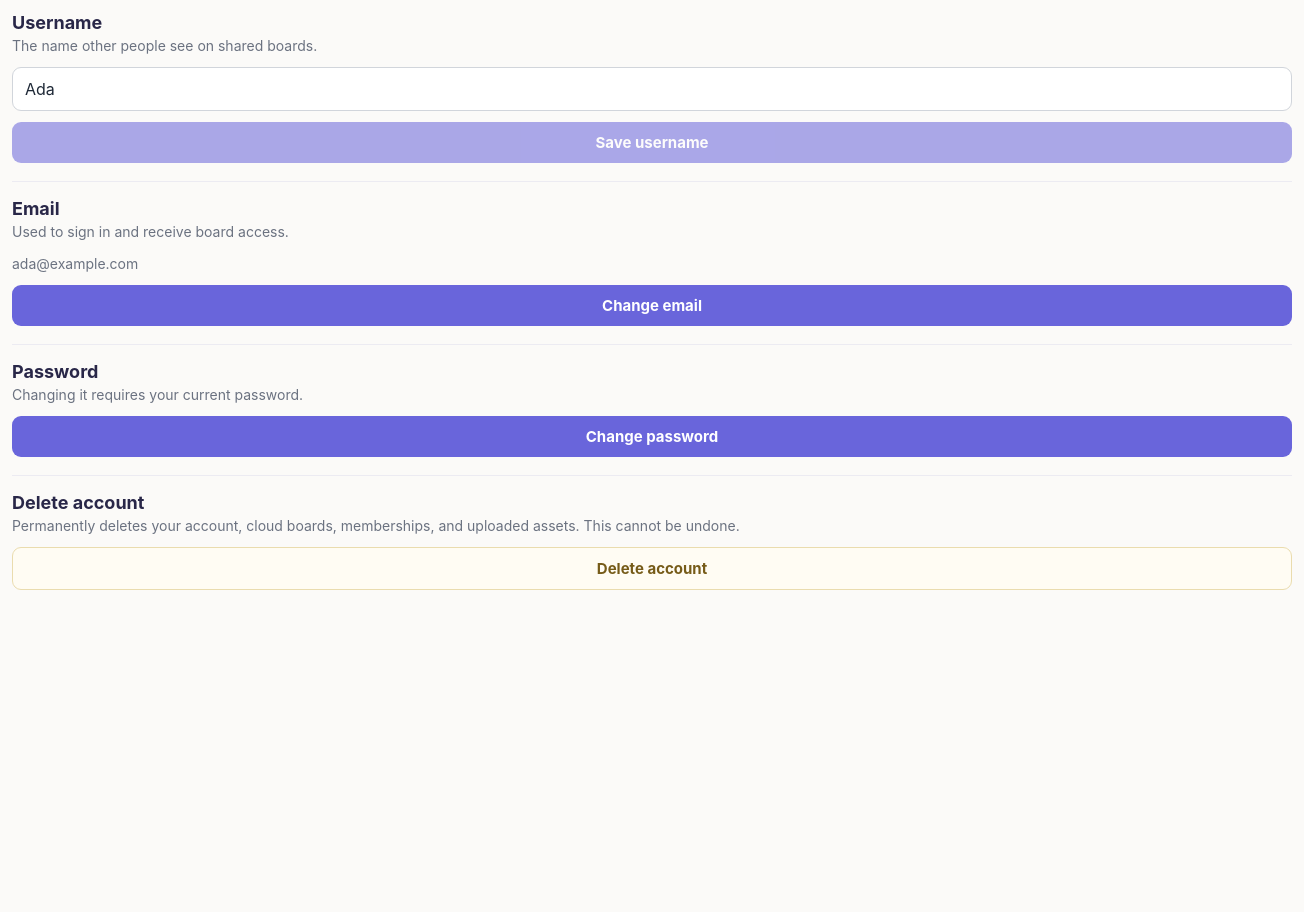
Scenario: AccountSettings › rejects an incorrect password before showing deletion confirmation
Click the button "Delete account".
click(652, 569)  # box x1=12 y1=548 x2=1292 y2=590
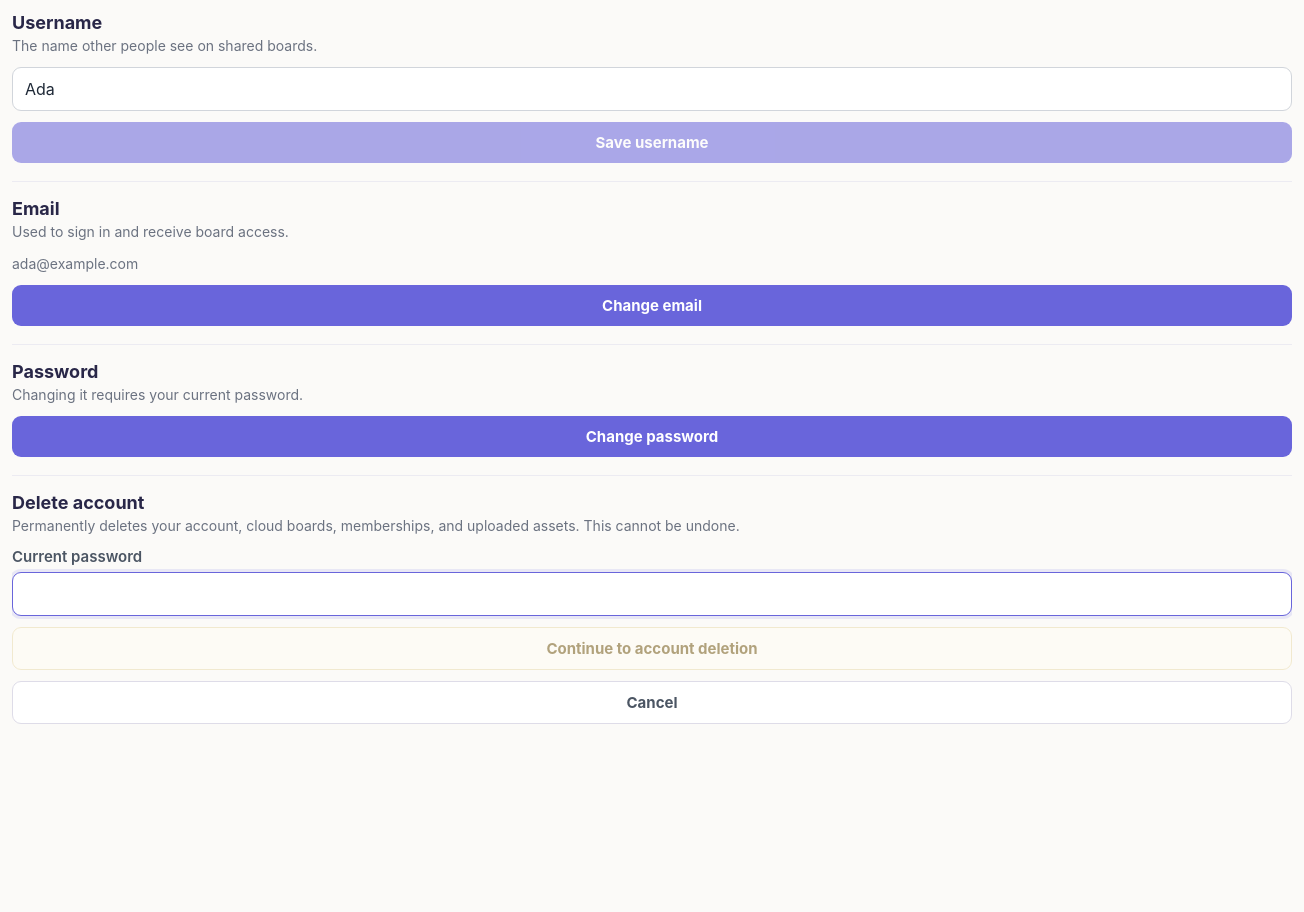
Type "wrong" into the password field named "Current password for account deletion".
click(652, 594); type("wrong")  # box x1=12 y1=572 x2=1292 y2=616
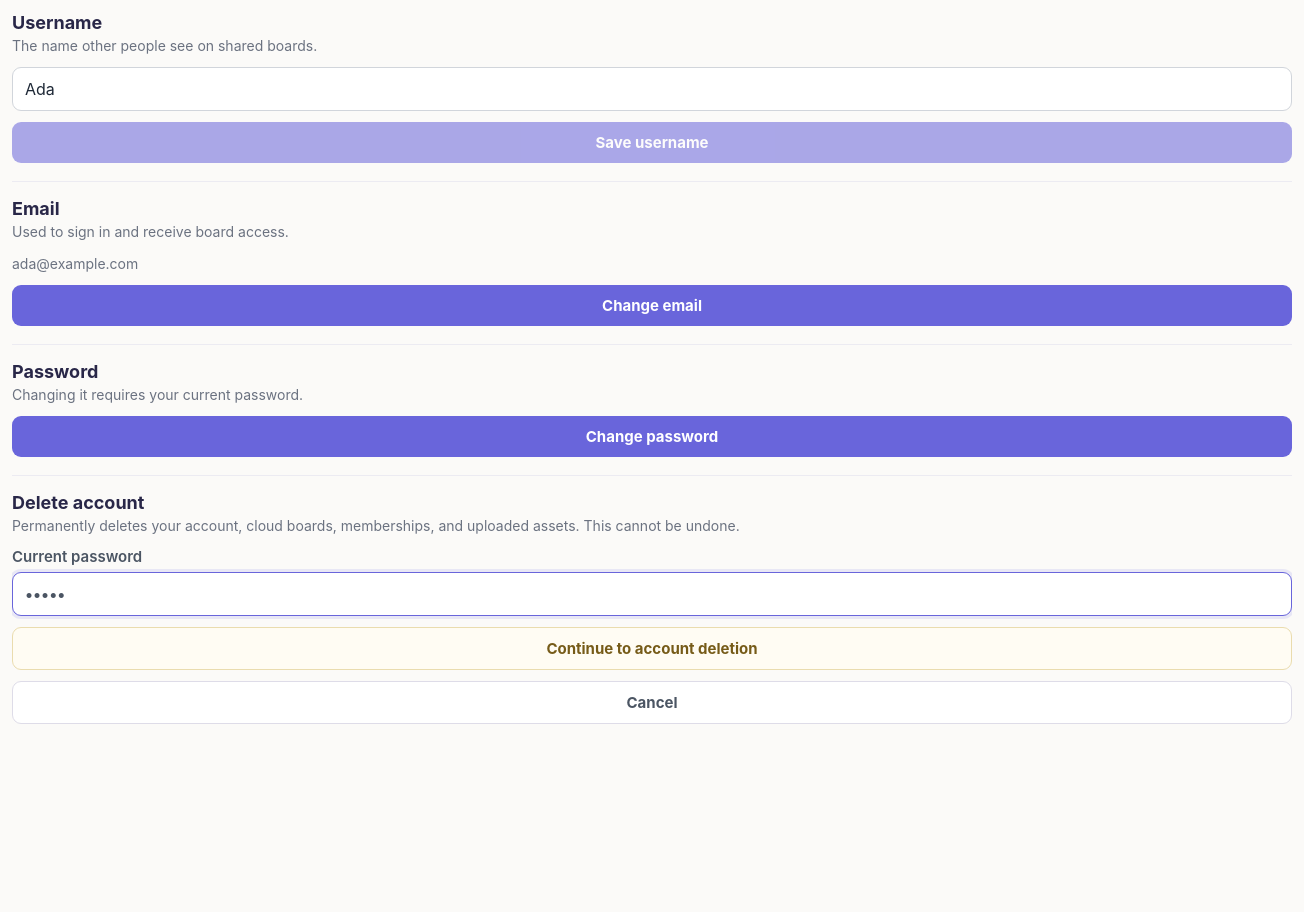
Click the button "Continue to account deletion".
click(652, 649)  # box x1=12 y1=628 x2=1292 y2=670
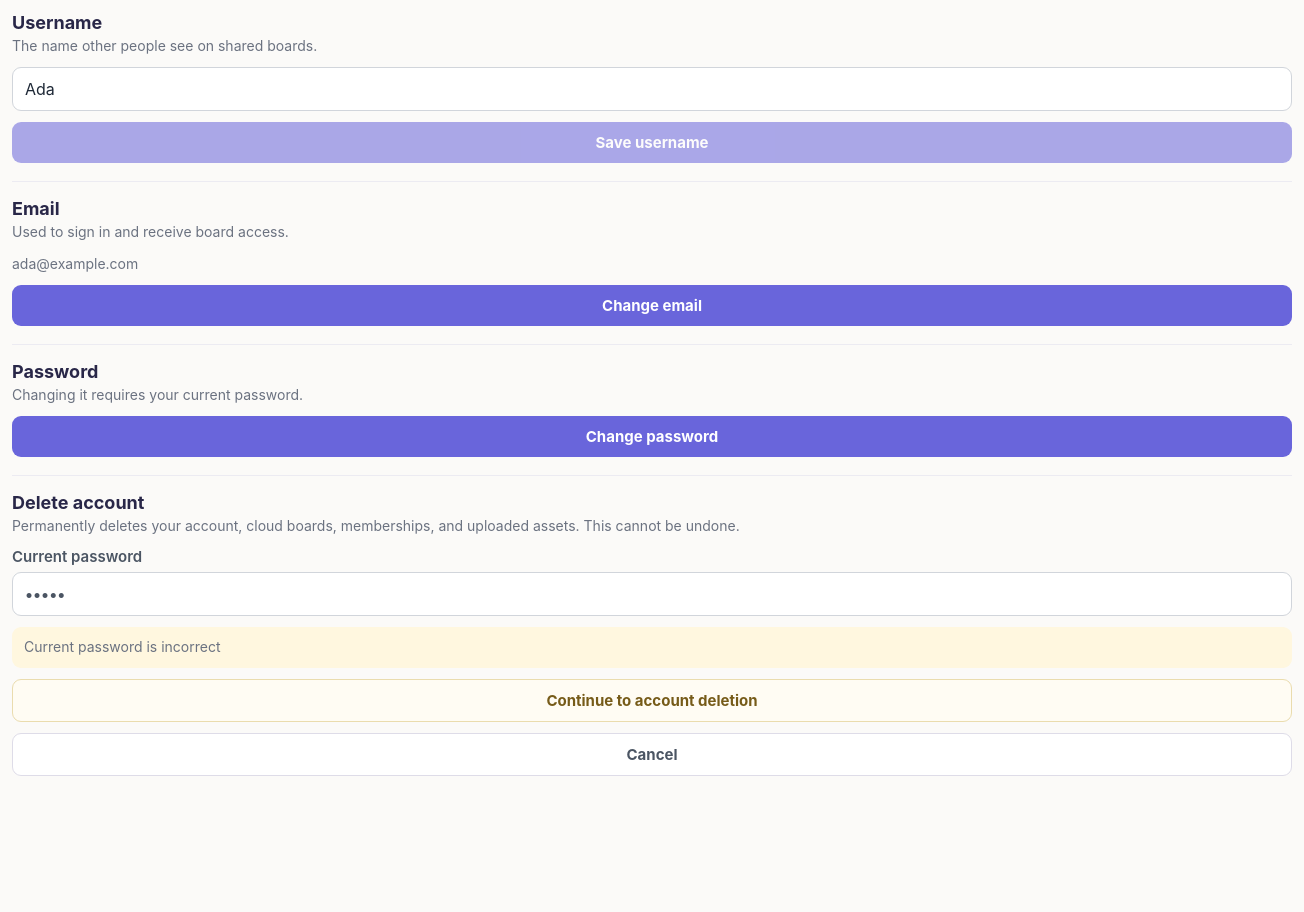
Expected: the text "Current password is incorrect" is shown, x1=12 y1=628 x2=1292 y2=668
